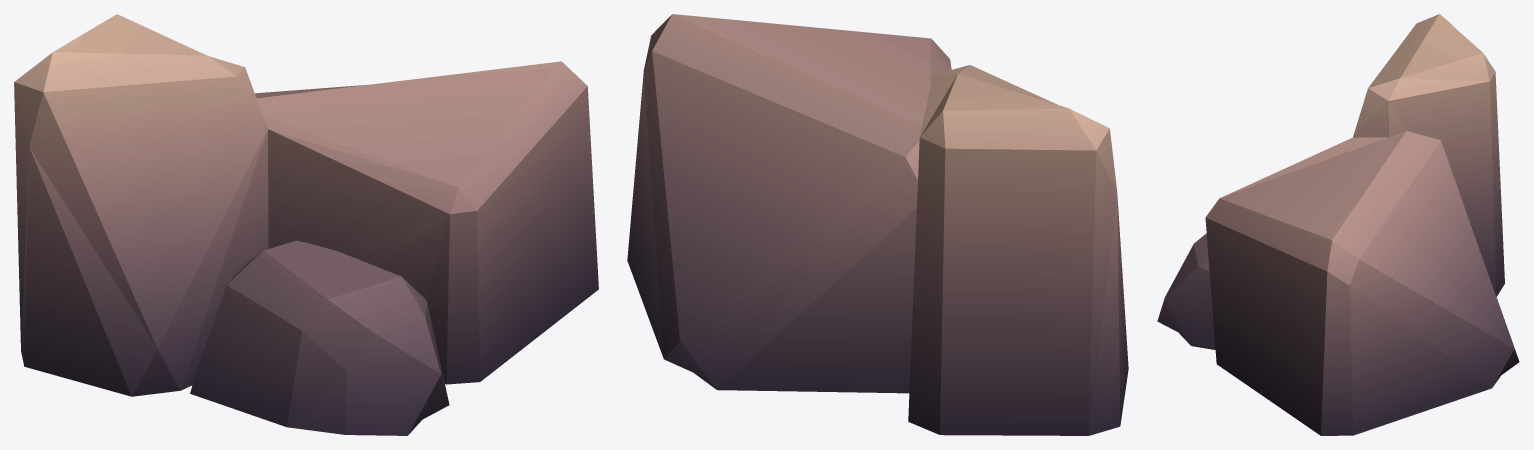
The model's file is rock3.fbx.
3 views of the same model, side by side, from view 1: azimuth 30°, elevation 25°; view 2: azimuth 150°, elevation 25°; view 3: azimuth 270°, elevation 25° (orthographic). The views are drawn at different scales.
Parts seen in each view (by area): view 1: rock.008; view 2: rock.008; view 3: rock.008.
Boxes of the visible parts, x1=… form: rock.008: x1=14, y1=14, x2=598, y2=435; rock.008: x1=627, y1=14, x2=1128, y2=435; rock.008: x1=1157, y1=14, x2=1519, y2=435.
Size of the model in its own units: 3.73 by 2.08 by 2.87.
